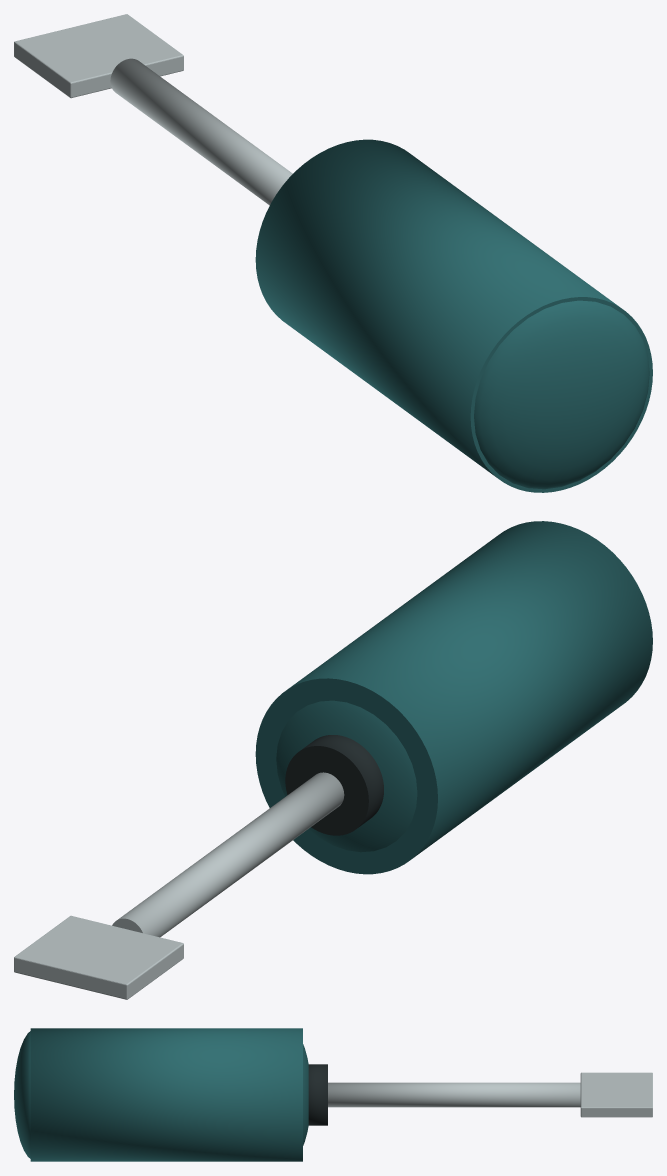
The model's file is driver.glb.
3 renders of one model, top to bottom at view 1: azimuth 30°, elevation 25°; view 2: azimuth 150°, elevation 25°; view 3: azimuth 270°, elevation 25°, orthographic. The views are drawn at different scales.
Visible parts, largest first — view 1: Screwdriver grip, Screwdriver grip cap, Screwdriver flat blade, Screwdriver round shaft; view 2: Screwdriver grip, Screwdriver round shaft, Screwdriver flat blade, Screwdriver grip cap.001, Screwdriver shoulder; view 3: Screwdriver grip, Screwdriver round shaft, Screwdriver flat blade, Screwdriver grip cap, Screwdriver shoulder, Screwdriver grip cap.001.
Part boxes in pixels (bbox=[...]): Screwdriver grip: bbox=[255, 139, 652, 492]; Screwdriver grip cap: bbox=[474, 300, 649, 489]; Screwdriver flat blade: bbox=[14, 14, 183, 98]; Screwdriver round shaft: bbox=[110, 58, 292, 205]; Screwdriver grip: bbox=[255, 521, 652, 874]; Screwdriver round shaft: bbox=[112, 772, 344, 937]; Screwdriver flat blade: bbox=[14, 915, 183, 999]; Screwdriver grip cap.001: bbox=[276, 700, 417, 852]; Screwdriver shoulder: bbox=[285, 735, 383, 835]; Screwdriver grip: bbox=[30, 1028, 302, 1161]; Screwdriver round shaft: bbox=[328, 1082, 580, 1107]; Screwdriver flat blade: bbox=[580, 1072, 652, 1117]; Screwdriver grip cap: bbox=[14, 1031, 30, 1158]; Screwdriver shoulder: bbox=[308, 1064, 327, 1125]; Screwdriver grip cap.001: bbox=[303, 1044, 308, 1145].
Bounding box in the file's own units: 0.048 × 0.048 × 0.23.
